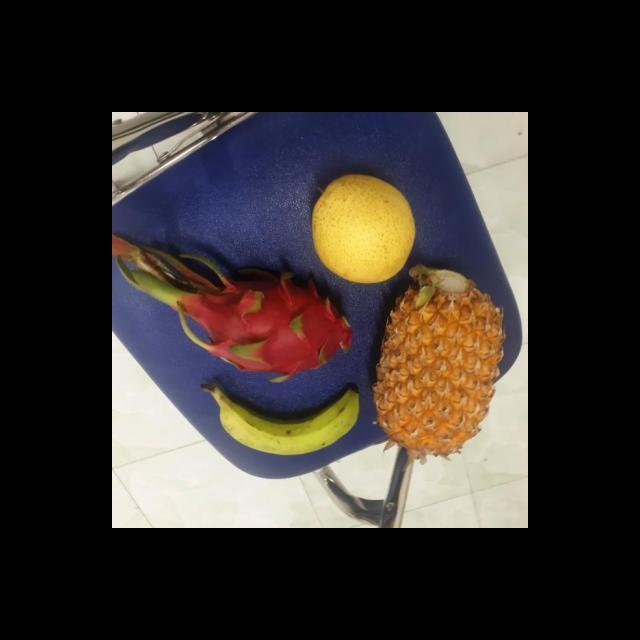banana: (211, 378, 369, 452)
pear: (310, 174, 420, 282)
pineapple: (376, 268, 504, 449)
pitaya: (185, 266, 362, 381)
